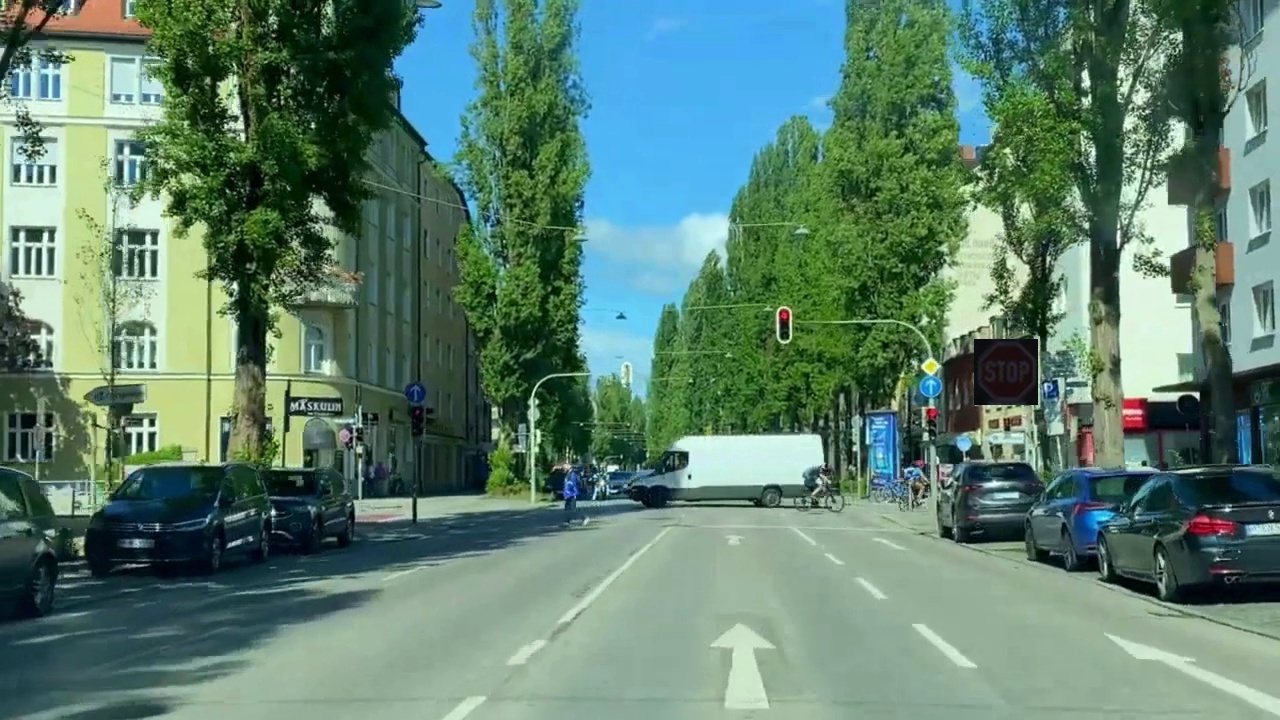Stop: (974, 339, 1038, 405)
